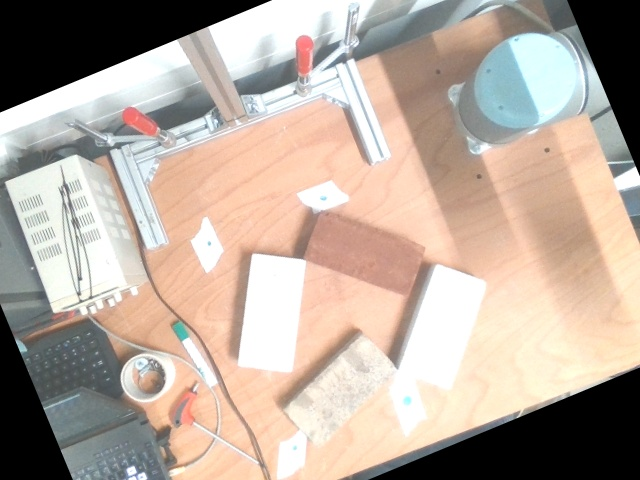brick: (280, 332, 401, 452), (399, 264, 488, 391), (302, 210, 426, 299), (239, 252, 307, 374)
